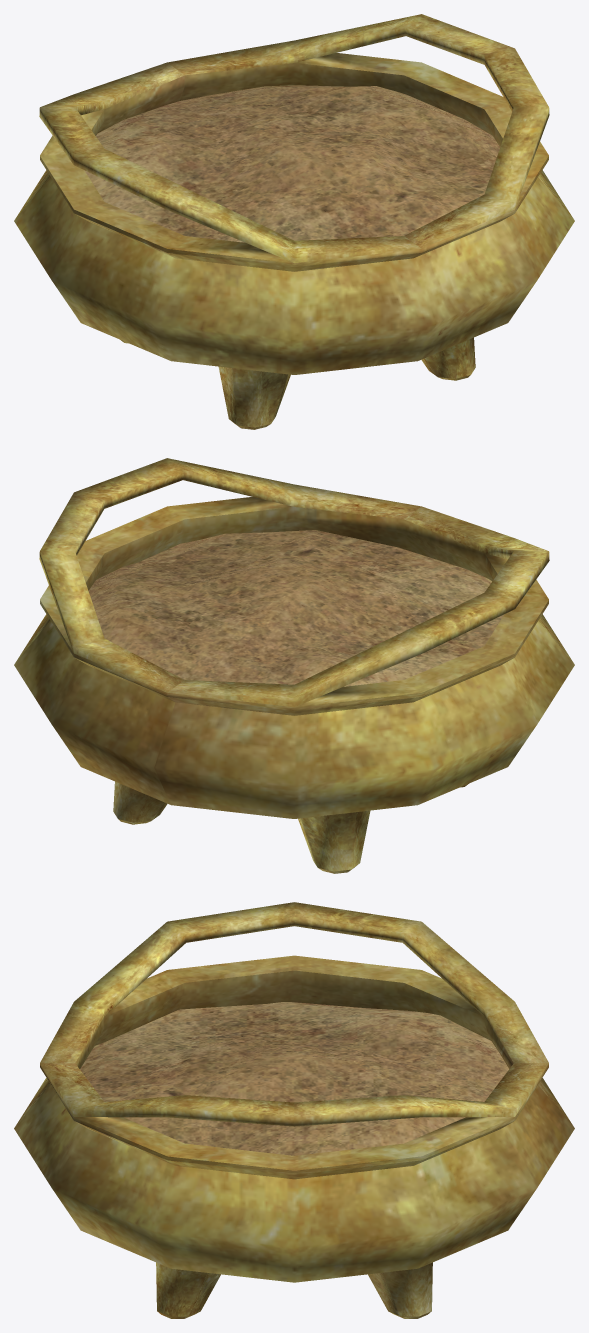
The model's file is incensePot03.FBX.
The picture shows the model from 3 angles, top to bottom: view 1: azimuth 30°, elevation 25°; view 2: azimuth 150°, elevation 25°; view 3: azimuth 270°, elevation 25°; orthographic projection.
Parts seen in each view (by area): view 1: SM_IncensePot03; view 2: SM_IncensePot03; view 3: SM_IncensePot03.
Part boxes in pixels (x1=…): SM_IncensePot03: x1=14, y1=14, x2=574, y2=429; SM_IncensePot03: x1=14, y1=458, x2=574, y2=873; SM_IncensePot03: x1=14, y1=902, x2=574, y2=1318.
Size of the model in its own units: 17.27 by 8.59 by 17.27.
Materials: 2 (2 with a texture image).
